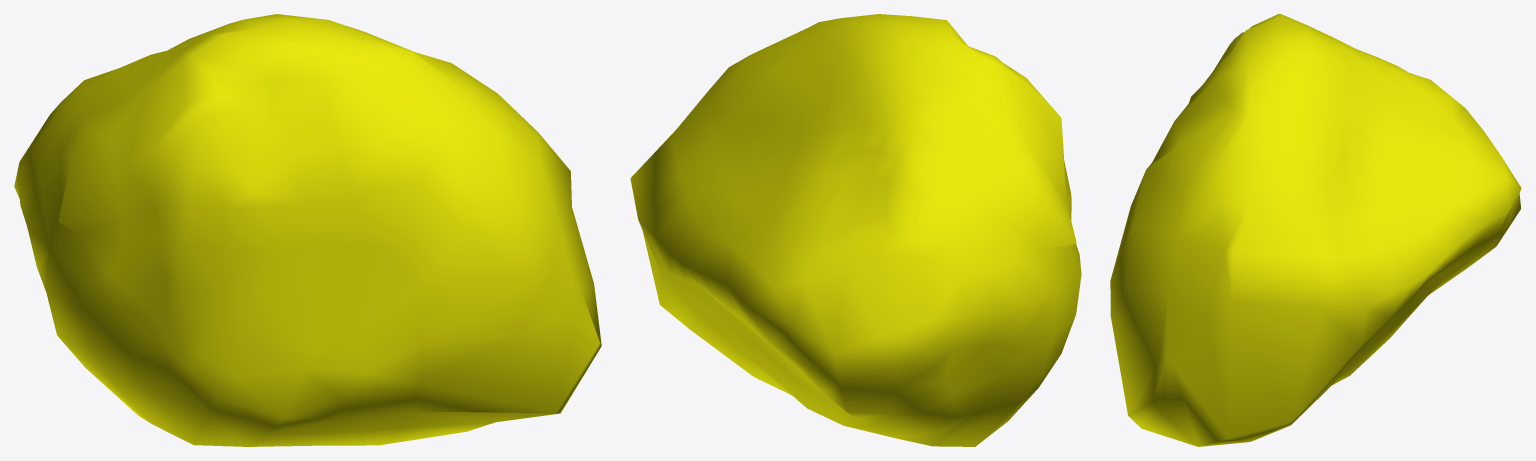
The model's file is SM_Rock1.fbx.
The picture shows the model from 3 angles, left to right: view 1: azimuth 30°, elevation 25°; view 2: azimuth 150°, elevation 25°; view 3: azimuth 270°, elevation 25°; orthographic projection. The views are drawn at different scales.
Parts seen in each view (by area): view 1: RockFourLow; view 2: RockFourLow; view 3: RockFourLow.
Part boxes in pixels (box(x1,y1,x2,y2)): RockFourLow: box(14, 14, 601, 446); RockFourLow: box(630, 14, 1081, 446); RockFourLow: box(1110, 14, 1521, 446).
Size of the model in its own units: 1.96 by 1.69 by 1.82.
